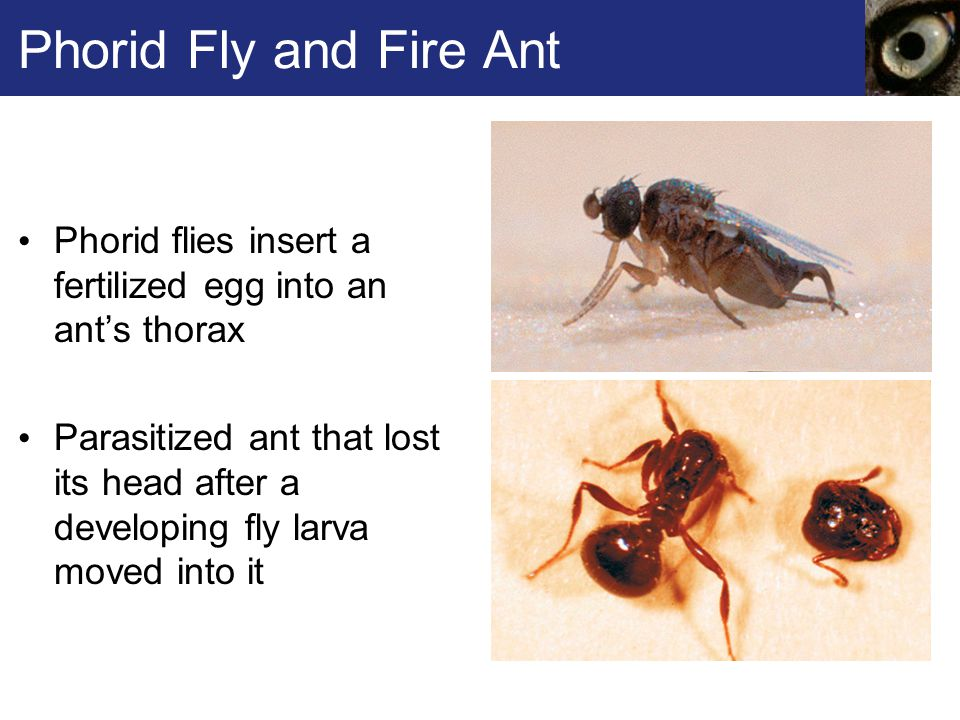phorid fly: (539, 156, 874, 346)
